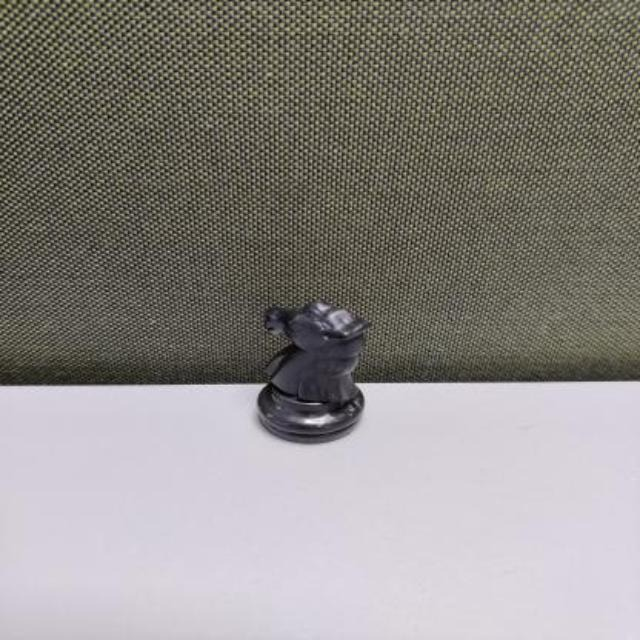black-knight: (256, 300, 374, 443)
